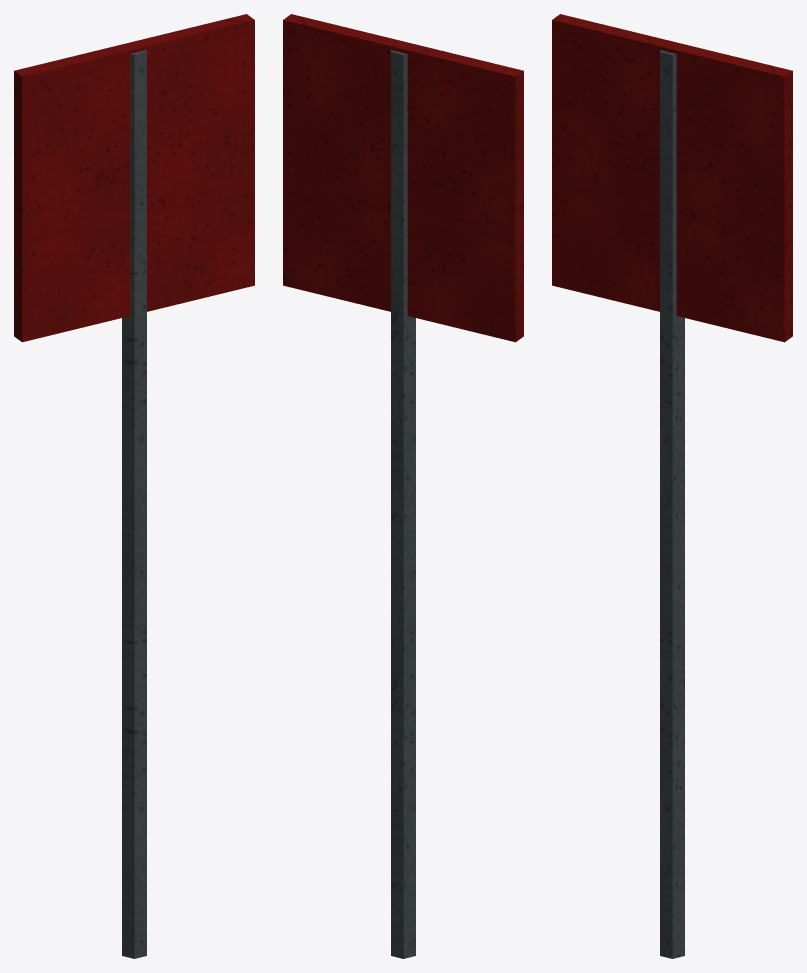
Rendered from PROP-89FEA3749085_lod2.glb.
3 views of the same model, side by side, from view 1: azimuth 30°, elevation 25°; view 2: azimuth 150°, elevation 25°; view 3: azimuth 330°, elevation 25° (orthographic).
Parts seen in each view (by area): view 1: sign_plate.004, sign_post.006; view 2: sign_plate.004, sign_post.006; view 3: sign_plate.004, sign_post.006.
Part boxes in pixels (x1,y1,x2,y2): sign_plate.004: (14,14,254,342); sign_post.006: (122,50,146,958); sign_plate.004: (283,14,523,342); sign_post.006: (391,50,415,958); sign_plate.004: (552,14,792,342); sign_post.006: (660,50,684,958).
Size of the model in its own units: 0.66 by 2.46 by 0.0606.
2 materials, 2 textured.
